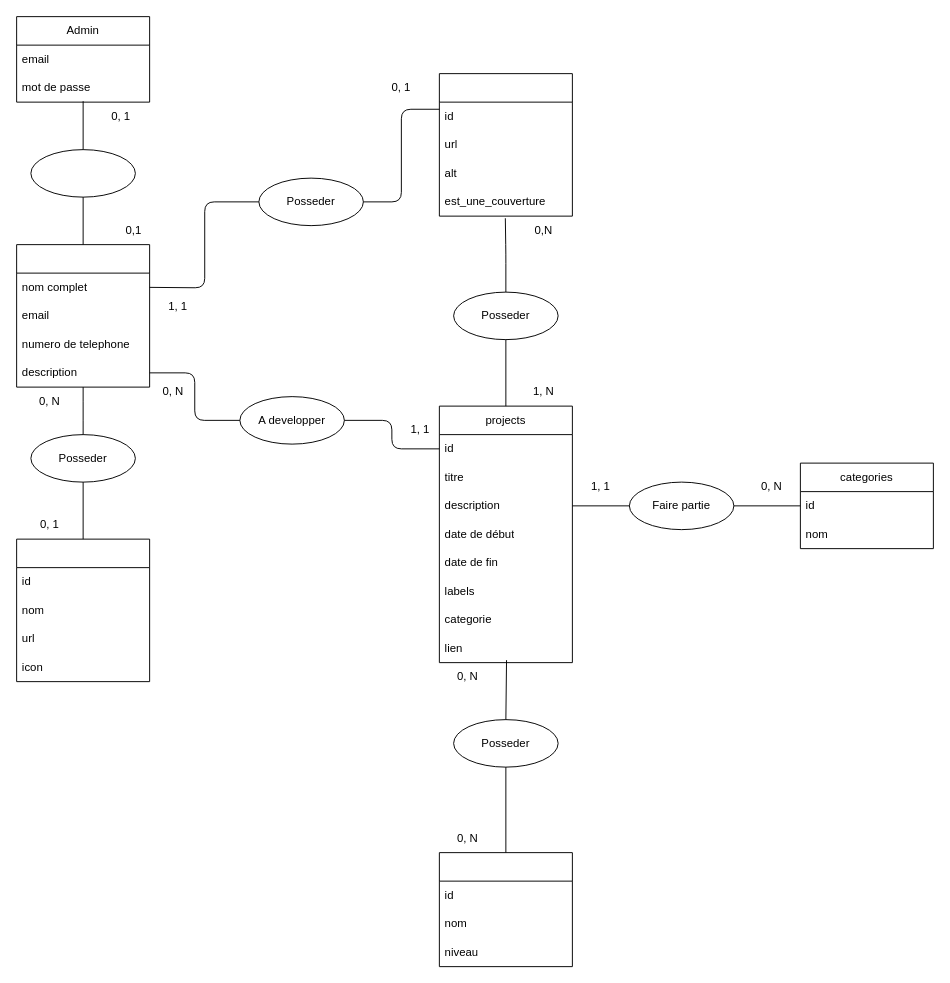
Some shapes in this 950 by 983 pixel diagram are drawn without their labels. Here are the shapes that lost their labels. From the top down, the box of each, then its label:
(438, 73, 572, 216): images
(30, 149, 135, 197): Peut altérer
(16, 244, 150, 387): profile
(16, 538, 150, 682): socials
(438, 852, 572, 967): skills
